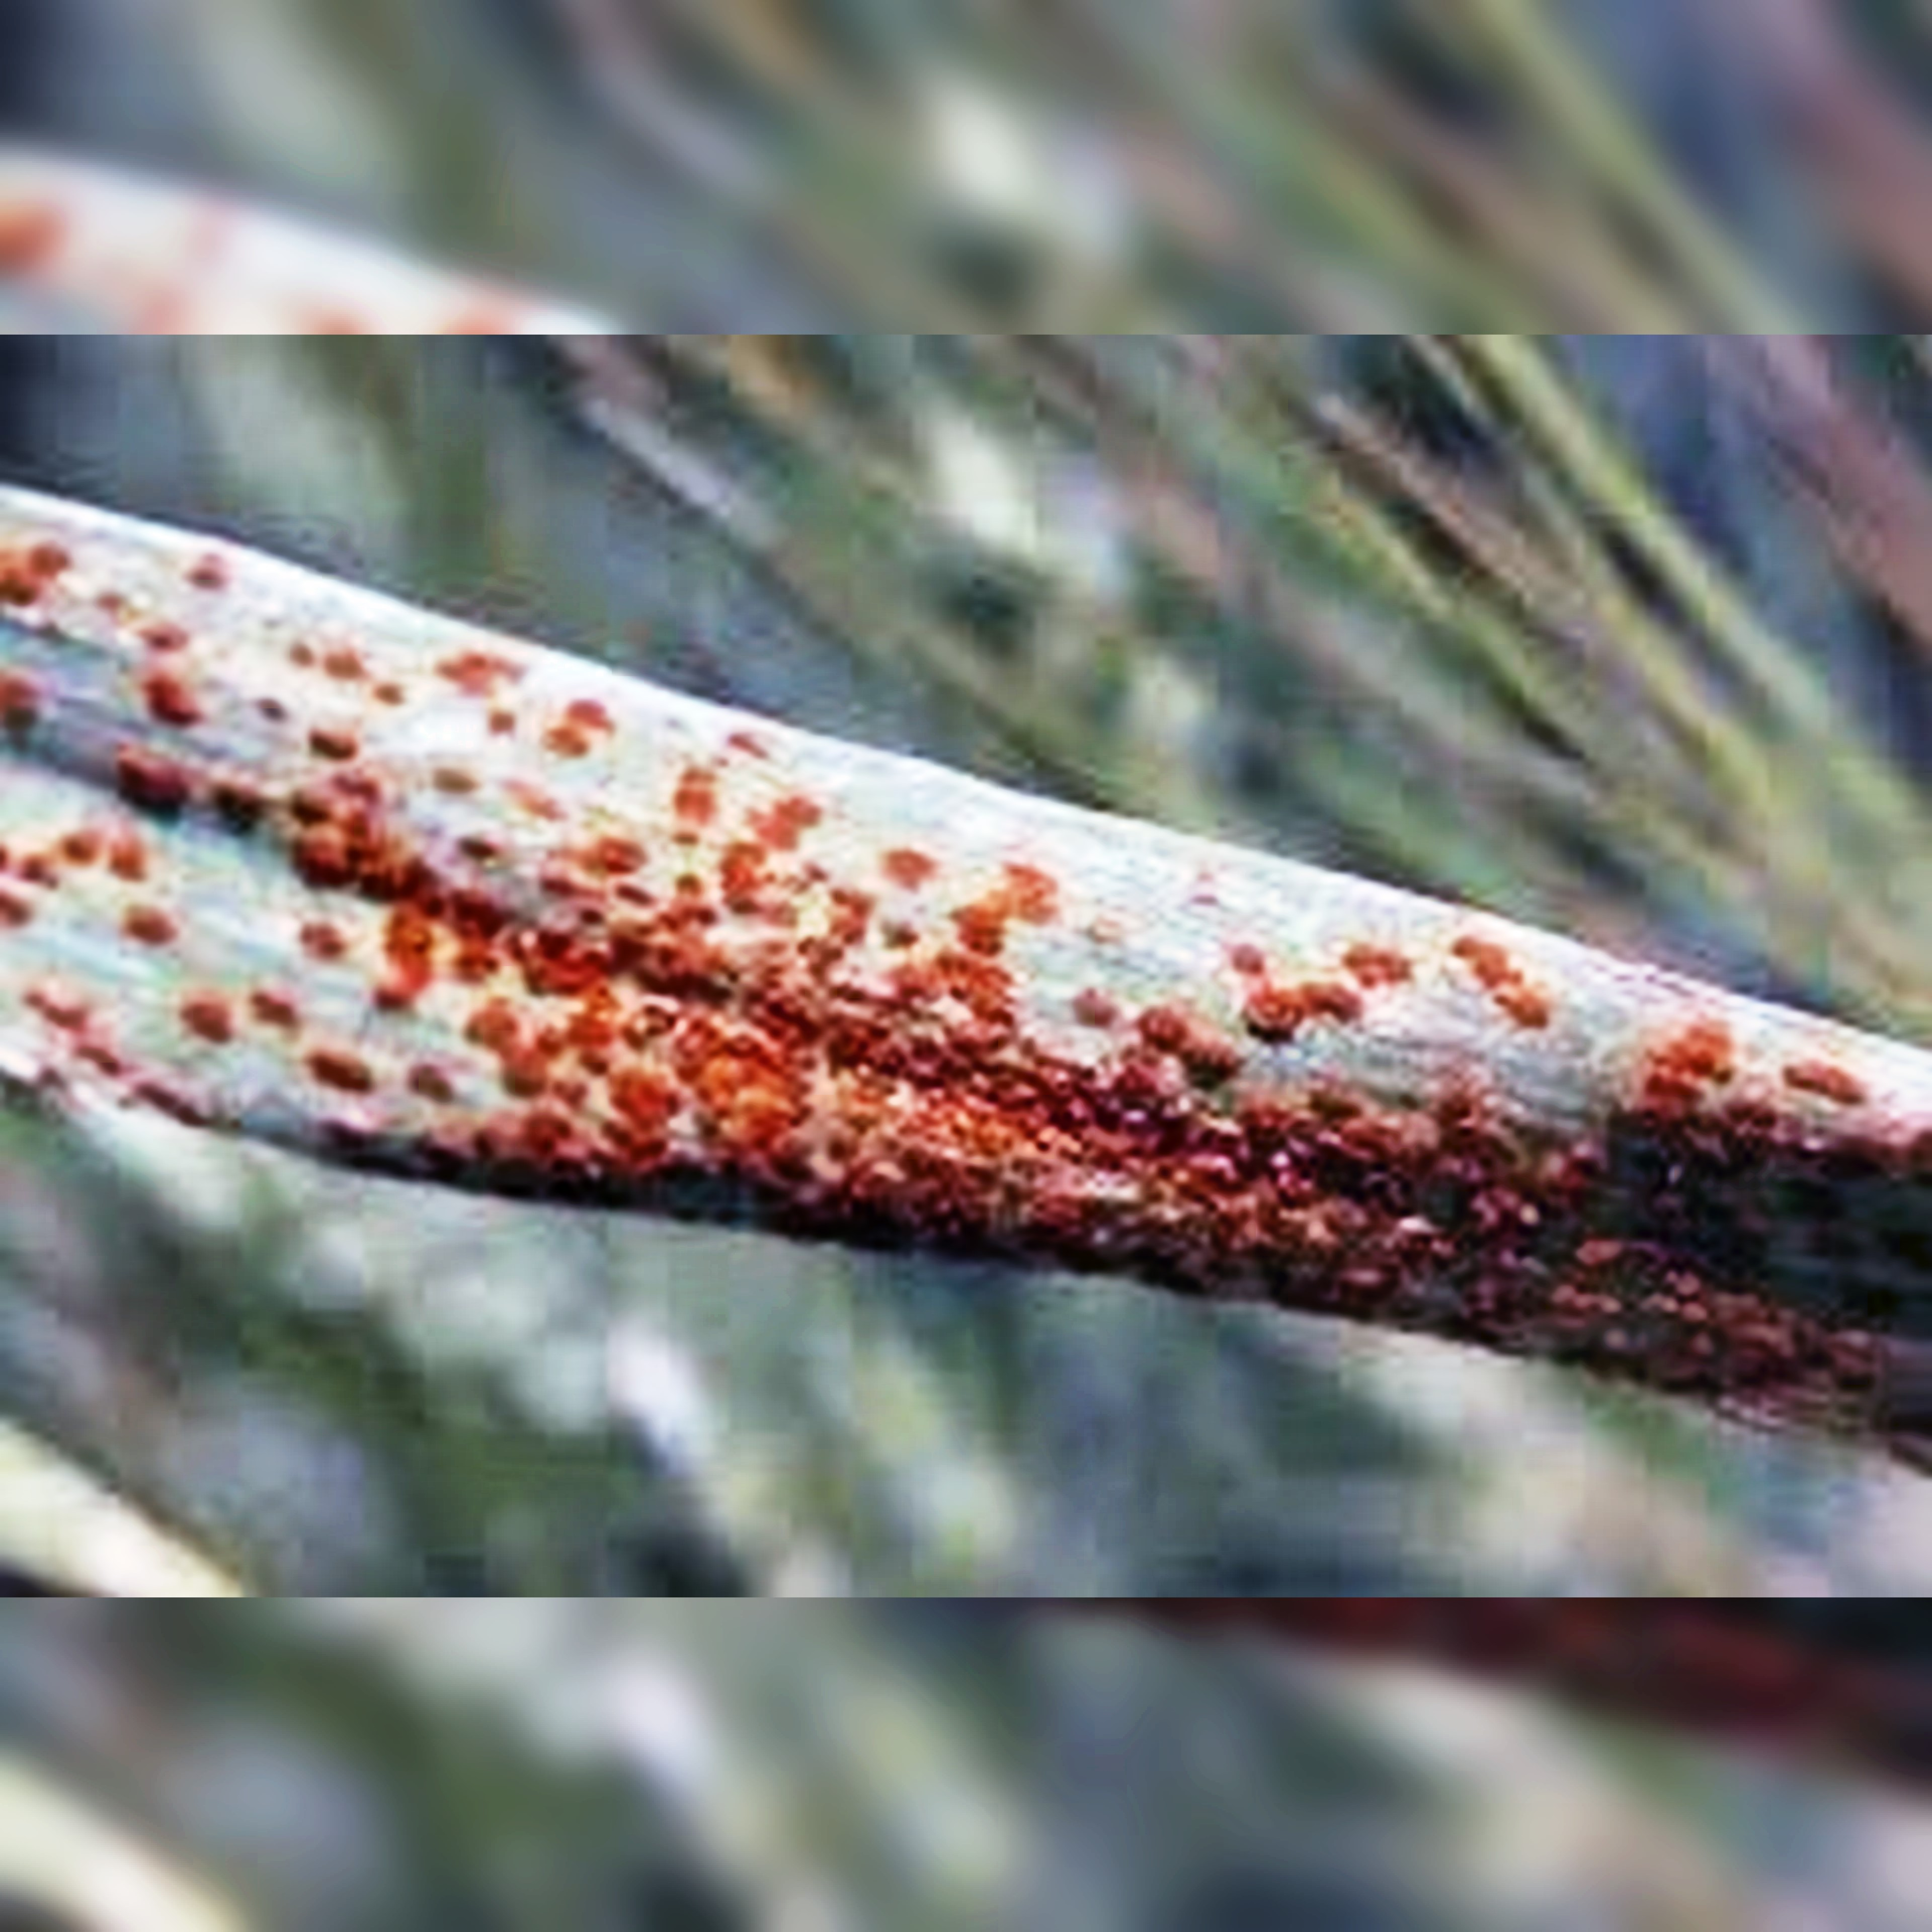Leaf Rust: (115, 617, 1932, 1430)
